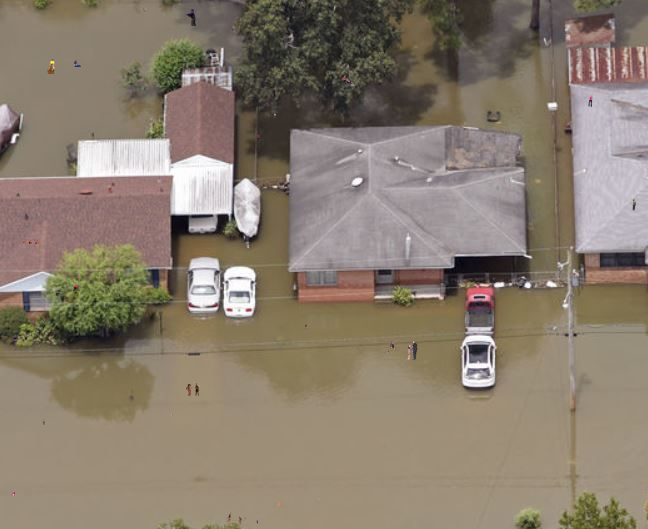Human: (390, 341, 418, 360), (226, 512, 246, 525), (54, 286, 79, 296), (184, 9, 196, 26), (186, 383, 200, 396), (342, 75, 355, 86), (47, 59, 55, 74), (12, 334, 18, 350), (19, 333, 32, 340), (23, 239, 39, 244), (588, 94, 593, 107), (632, 199, 636, 212), (74, 60, 81, 67), (230, 26, 235, 35), (257, 134, 260, 141), (143, 8, 148, 12), (42, 419, 45, 425), (590, 328, 593, 333), (12, 492, 15, 496), (454, 6, 456, 11), (274, 113, 276, 118), (256, 519, 258, 524), (268, 70, 270, 75), (305, 324, 307, 329), (387, 350, 389, 355), (443, 42, 446, 45), (170, 414, 173, 417), (548, 322, 551, 325)
